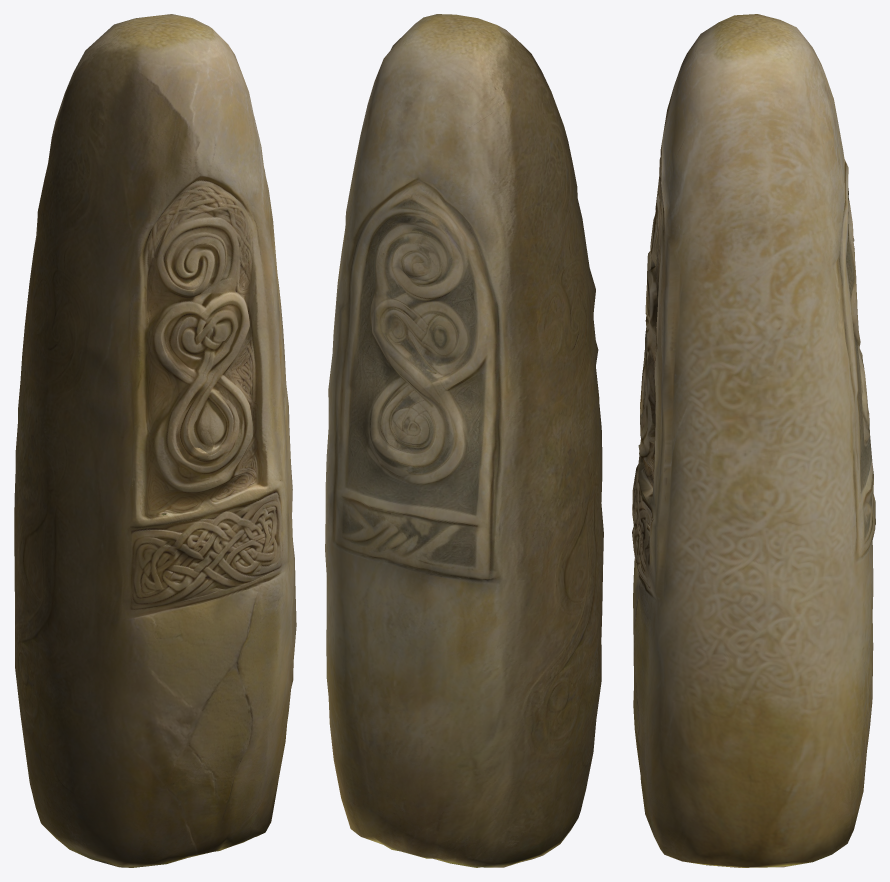
The model's file is stone_of_destiny.glb.
3 views of the same model, side by side, from view 1: azimuth 30°, elevation 25°; view 2: azimuth 150°, elevation 25°; view 3: azimuth 270°, elevation 25° (orthographic).
Bounding box in the file's own units: 0.6238 × 2 × 0.5491.
1 material, 1 textured.
